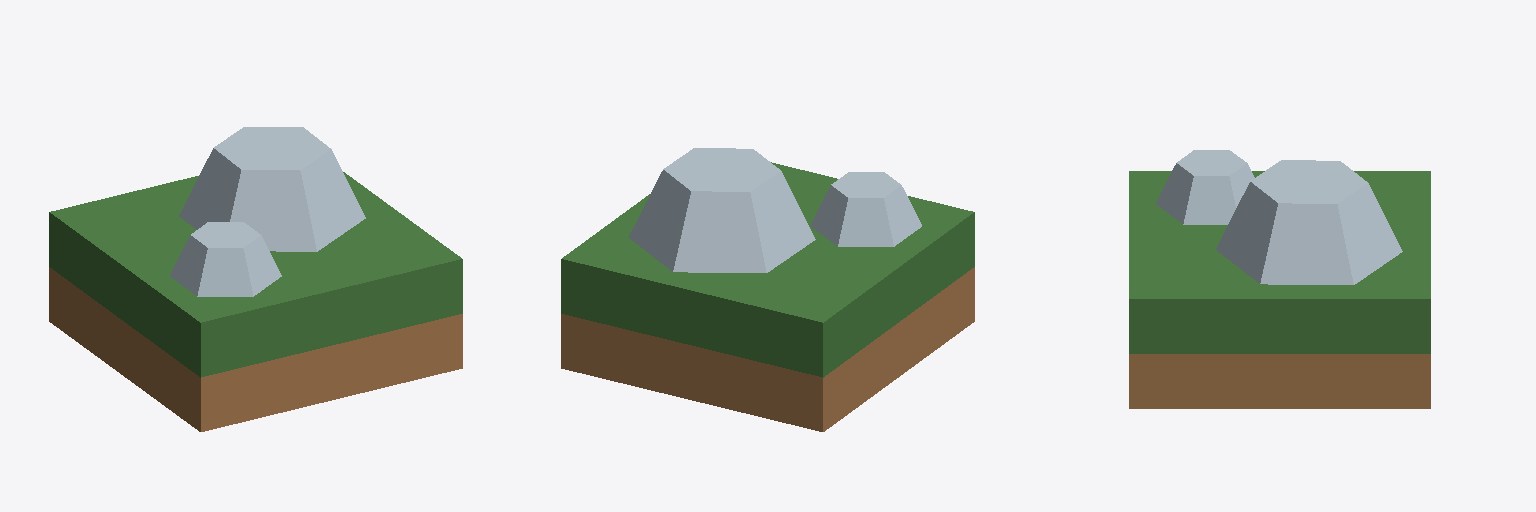
The model's file is towerDefense_073.obj.
3 views of the same model, side by side, from view 1: azimuth 30°, elevation 25°; view 2: azimuth 150°, elevation 25°; view 3: azimuth 270°, elevation 25° (orthographic).
Parts seen in each view (by area): view 1: Mesh3 Group1 Model, Mesh1 Group2 Group1 Model, Mesh2 Group3 Group1 Model; view 2: Mesh3 Group1 Model, Mesh1 Group2 Group1 Model, Mesh2 Group3 Group1 Model; view 3: Mesh3 Group1 Model, Mesh1 Group2 Group1 Model, Mesh2 Group3 Group1 Model.
Boxes of the visible parts, <box> form: Mesh3 Group1 Model: <box>49,172,462,431</box>; Mesh1 Group2 Group1 Model: <box>179,127,365,251</box>; Mesh2 Group3 Group1 Model: <box>170,222,281,296</box>; Mesh3 Group1 Model: <box>561,162,974,431</box>; Mesh1 Group2 Group1 Model: <box>628,148,815,272</box>; Mesh2 Group3 Group1 Model: <box>810,172,921,246</box>; Mesh3 Group1 Model: <box>1129,171,1430,408</box>; Mesh1 Group2 Group1 Model: <box>1216,160,1402,284</box>; Mesh2 Group3 Group1 Model: <box>1156,150,1254,224</box>.
Size of the model in its own units: 1 by 0.65 by 1.